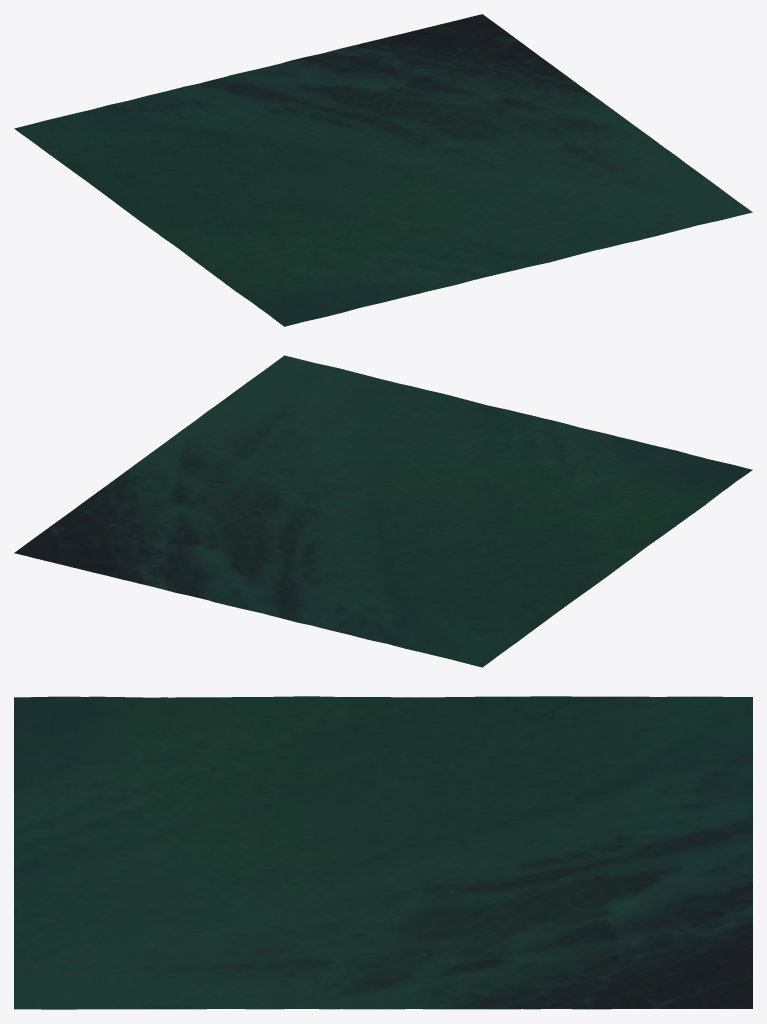
The picture shows the model from 3 angles, top to bottom: view 1: azimuth 30°, elevation 25°; view 2: azimuth 150°, elevation 25°; view 3: azimuth 270°, elevation 25°; orthographic projection. The views are drawn at different scales.
Bounding box in the file's own units: 418 × 1.23 × 418.
Materials: 3 (3 with a texture image).
